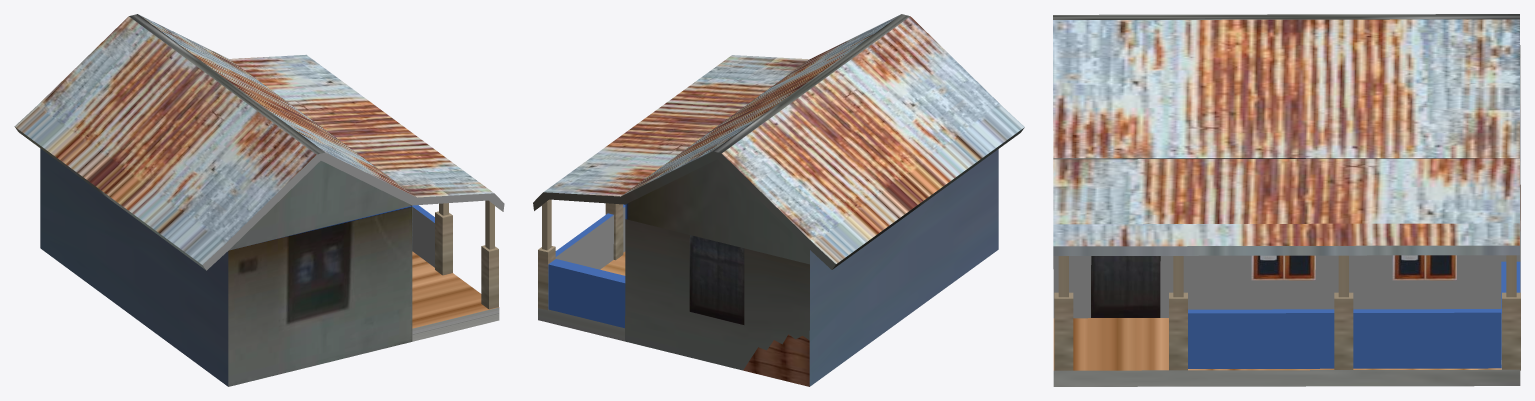
The model's file is house4.glb.
3 views of the same model, side by side, from view 1: azimuth 30°, elevation 25°; view 2: azimuth 150°, elevation 25°; view 3: azimuth 270°, elevation 25° (orthographic). The views are drawn at different scales.
Parts seen in each view (by area): view 1: Cube.004_0; view 2: Cube.004_0; view 3: Cube.004_0.
Part boxes in pixels (x1,y1,x2,y2): Cube.004_0: (14,14,504,386); Cube.004_0: (533,14,1024,386); Cube.004_0: (1053,14,1520,386).
Bounding box in the file's own units: 5.84 × 3.91 × 6.31.
8 materials, 8 textured.
